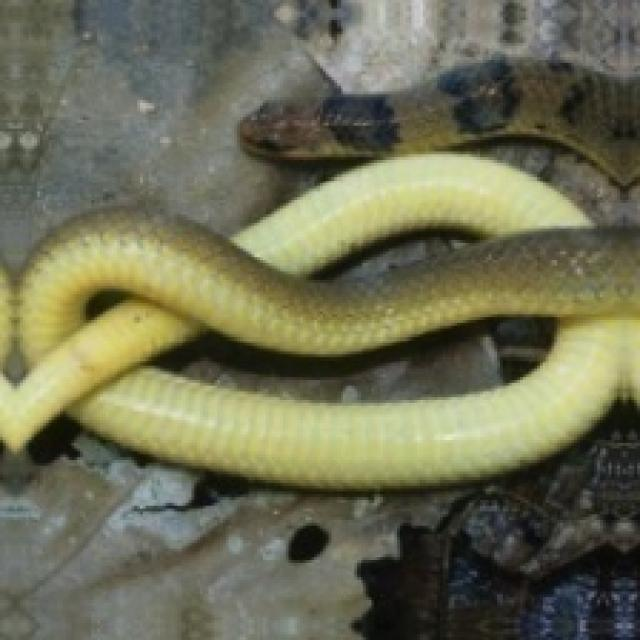luzon dwarf snake: (0, 154, 637, 486), (134, 311, 563, 403), (294, 226, 506, 286)
